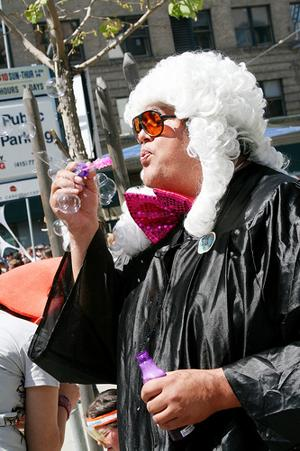person: (43, 54, 300, 446)
